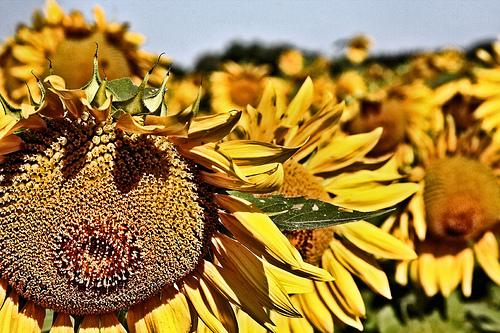sunflower: (1, 67, 327, 333), (221, 79, 419, 333), (2, 0, 184, 111), (383, 119, 500, 291)
